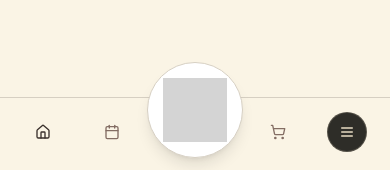
Test case: Header mobile nav › shows updated logged-in FAB actions and omits FAB sign-in action
Click the button named "toggle quick menu" at (195,110), box x1=147 y1=62 x2=243 y2=158
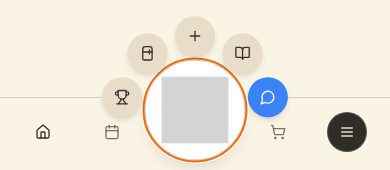
Check: the link named "Leaderboard" is shown, box x1=102 y1=77 x2=142 y2=117
Check: the link named "Pantry" is shown, box x1=127 y1=33 x2=167 y2=73
Check: the link named "Add Recipe" is shown, box x1=175 y1=16 x2=215 y2=56
